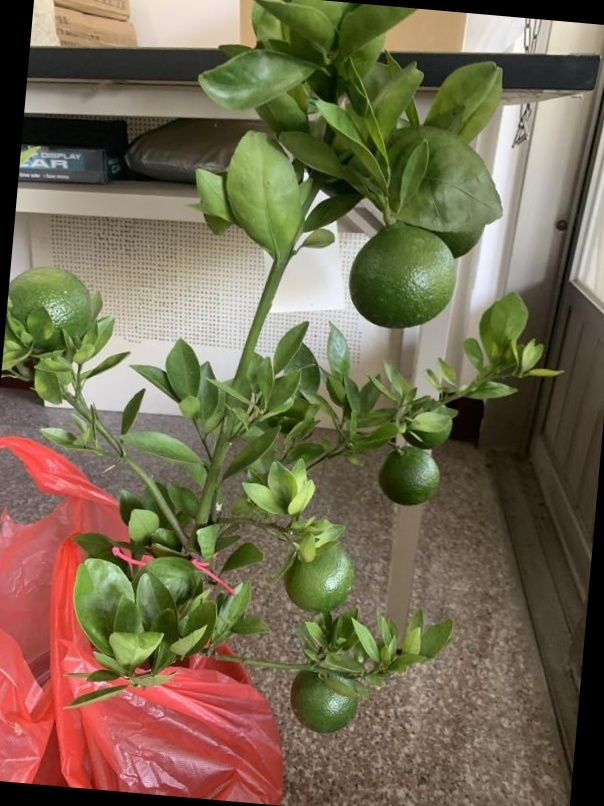Tangerine: (339, 221, 459, 328), (10, 265, 96, 357), (283, 663, 361, 735), (283, 548, 357, 611), (378, 439, 442, 506)
